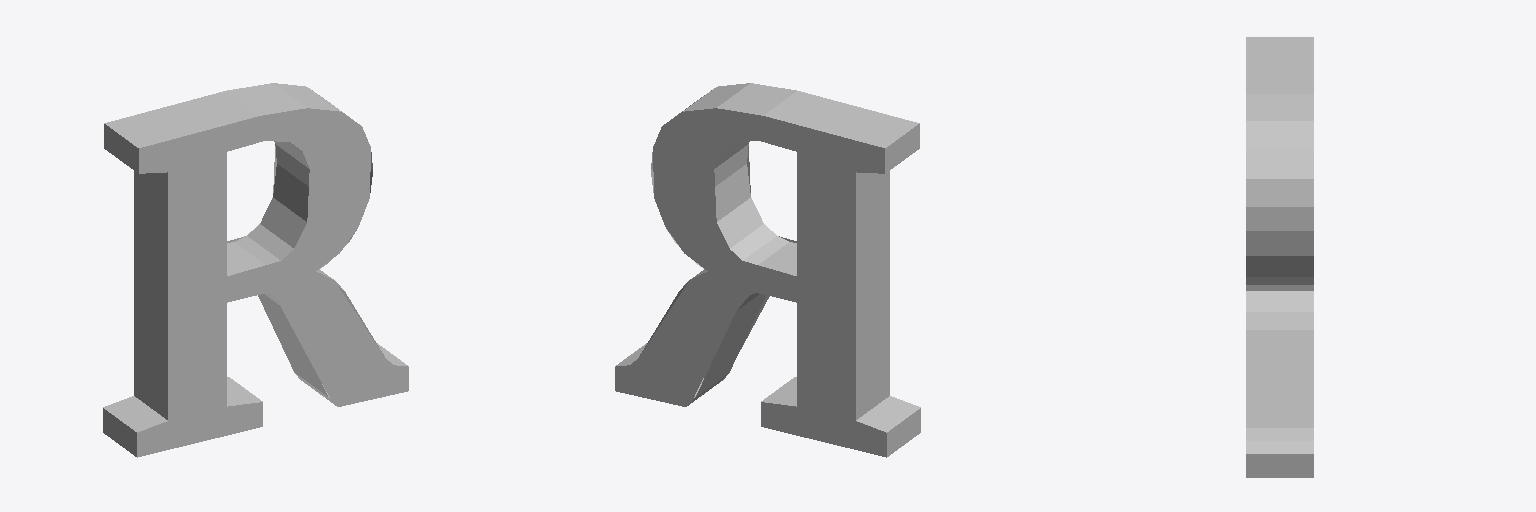
3 renders of one model, left to right at view 1: azimuth 30°, elevation 25°; view 2: azimuth 150°, elevation 25°; view 3: azimuth 270°, elevation 25°, orthographic.
Parts seen in each view (by area): view 1: Extrude.1; view 2: Extrude.1; view 3: Extrude.1.
Boxes of the visible parts, box(x1,y1,x2,y2) form: Extrude.1: box(103, 83, 408, 457); Extrude.1: box(615, 83, 920, 457); Extrude.1: box(1246, 37, 1313, 477).
Size of the model in its own units: 137 by 150 by 30.